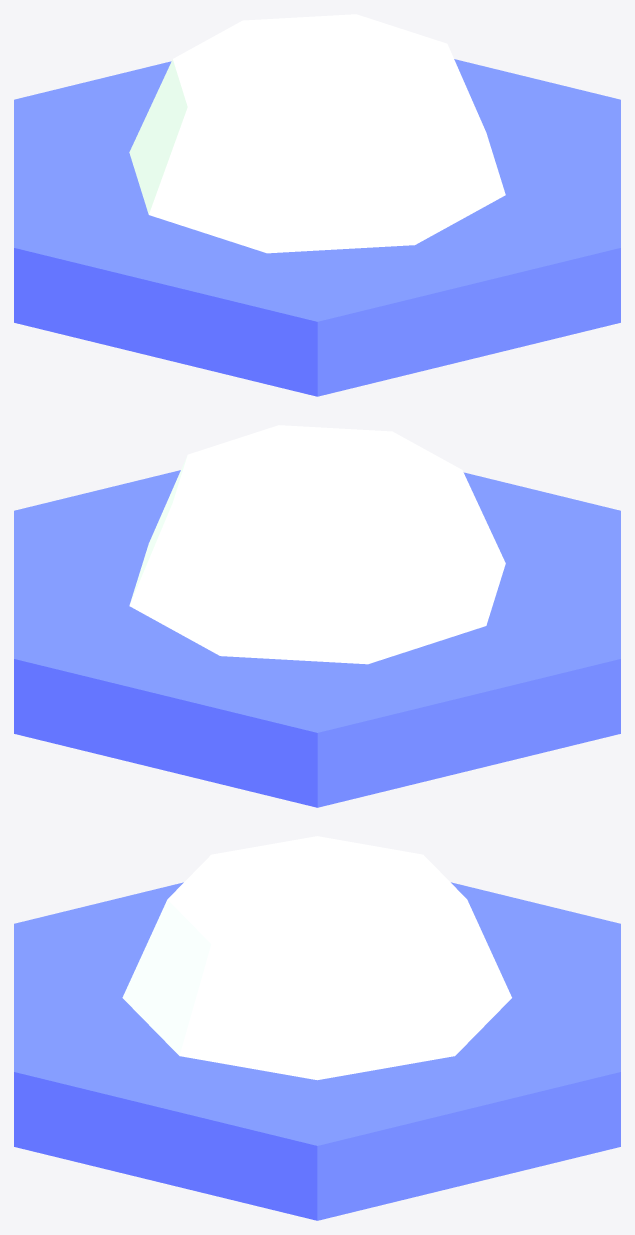
Rendered from Laser.fbx.
3 views of the same model, one above another, from view 1: azimuth 30°, elevation 25°; view 2: azimuth 150°, elevation 25°; view 3: azimuth 270°, elevation 25° (orthographic).
Parts seen in each view (by area): view 1: Sphere; view 2: Sphere; view 3: Sphere.
Part boxes in pixels (bbox=[...]): Sphere: bbox=[14, 14, 620, 396]; Sphere: bbox=[14, 425, 620, 807]; Sphere: bbox=[14, 836, 620, 1220].
Bounding box in the file's own units: 100 × 36.15 × 86.6.
